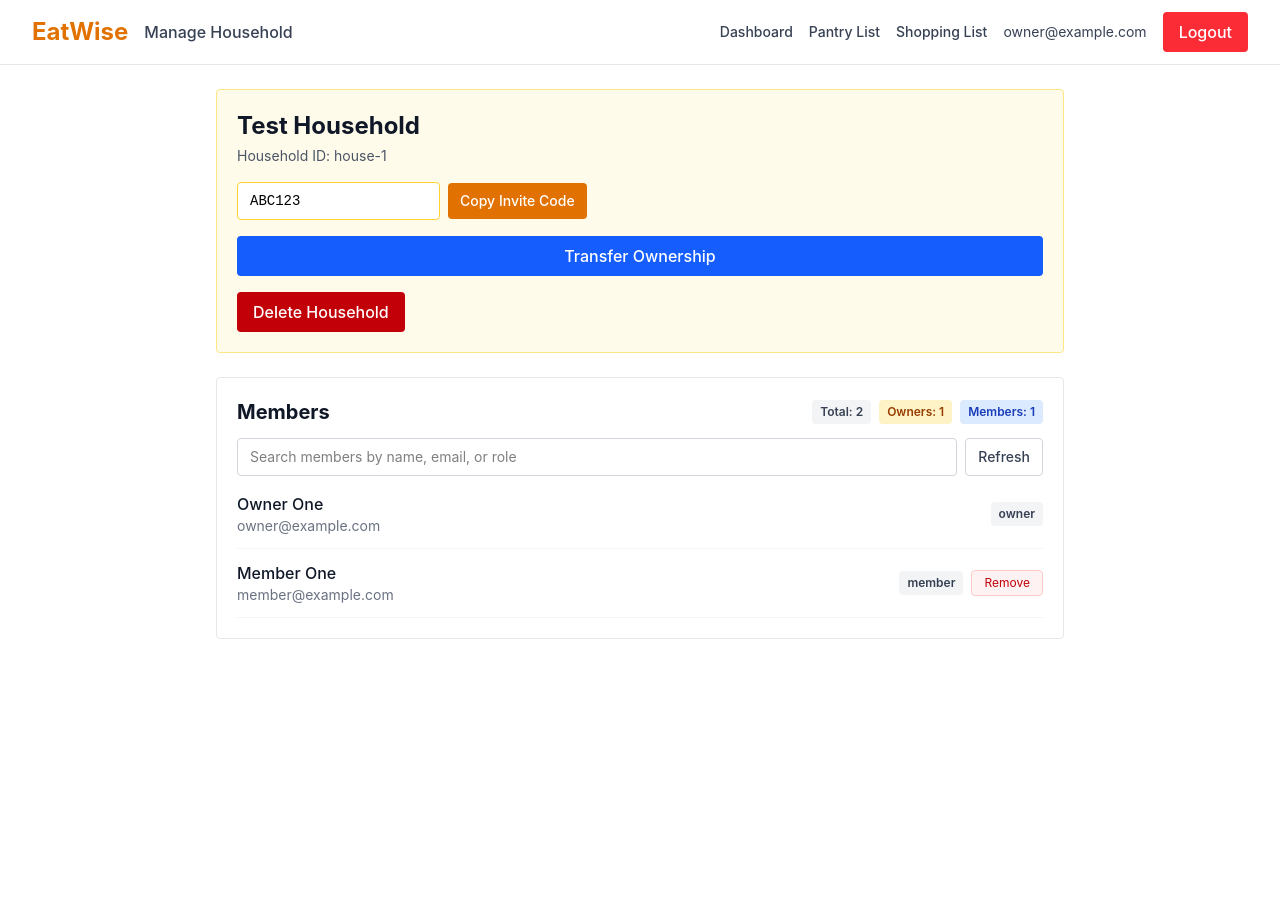
Test: ManageHouseholdPage › shows transfer error and keeps modal open when API fails
Click the button "Transfer Ownership" at x=640, y=256, box [237,236,1043,276]
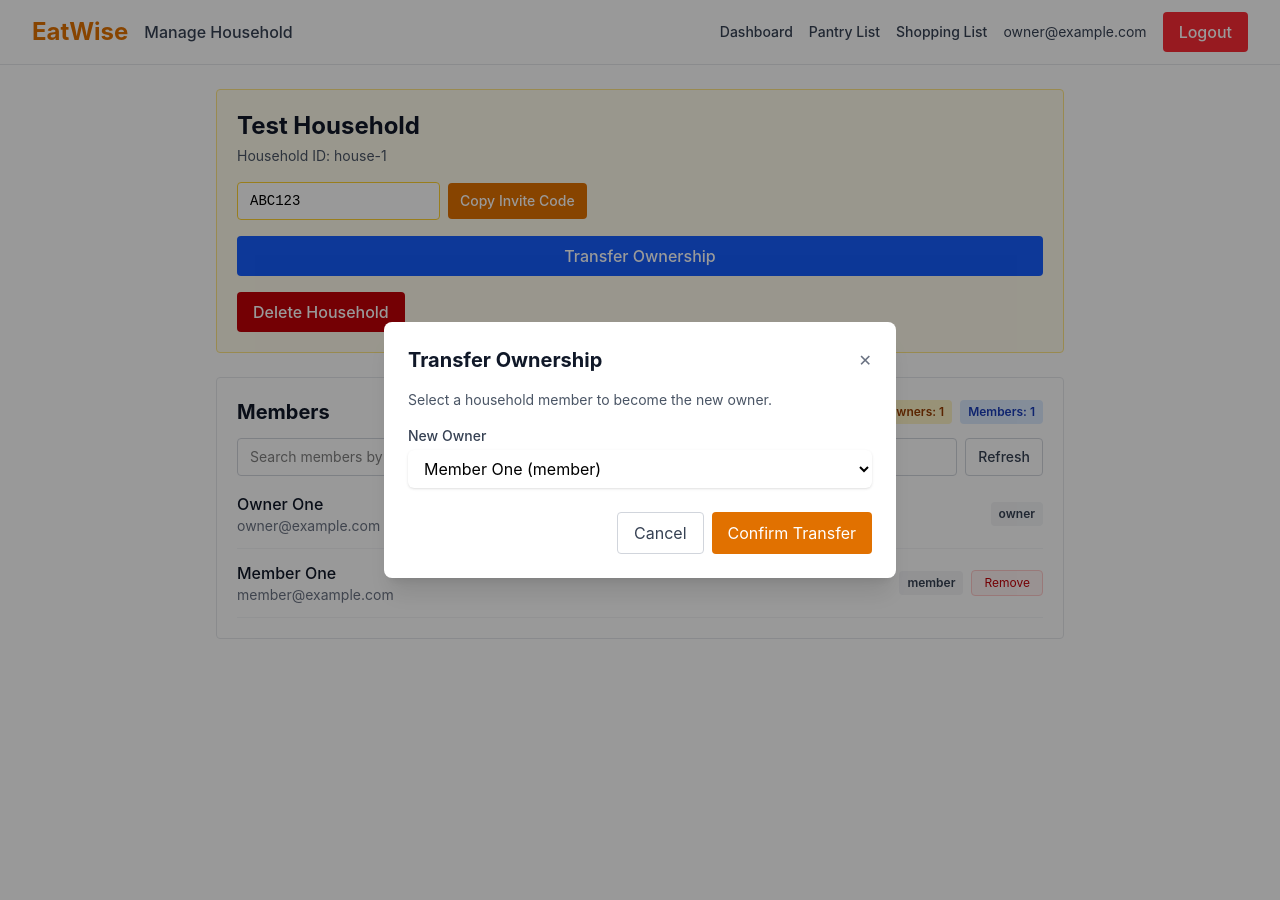
Select "Member One (member)" in the dropdown labelled "New Owner" at x=640, y=469, box [408,450,872,488]
Click the button "Confirm Transfer" at x=792, y=533, box [712,512,872,554]
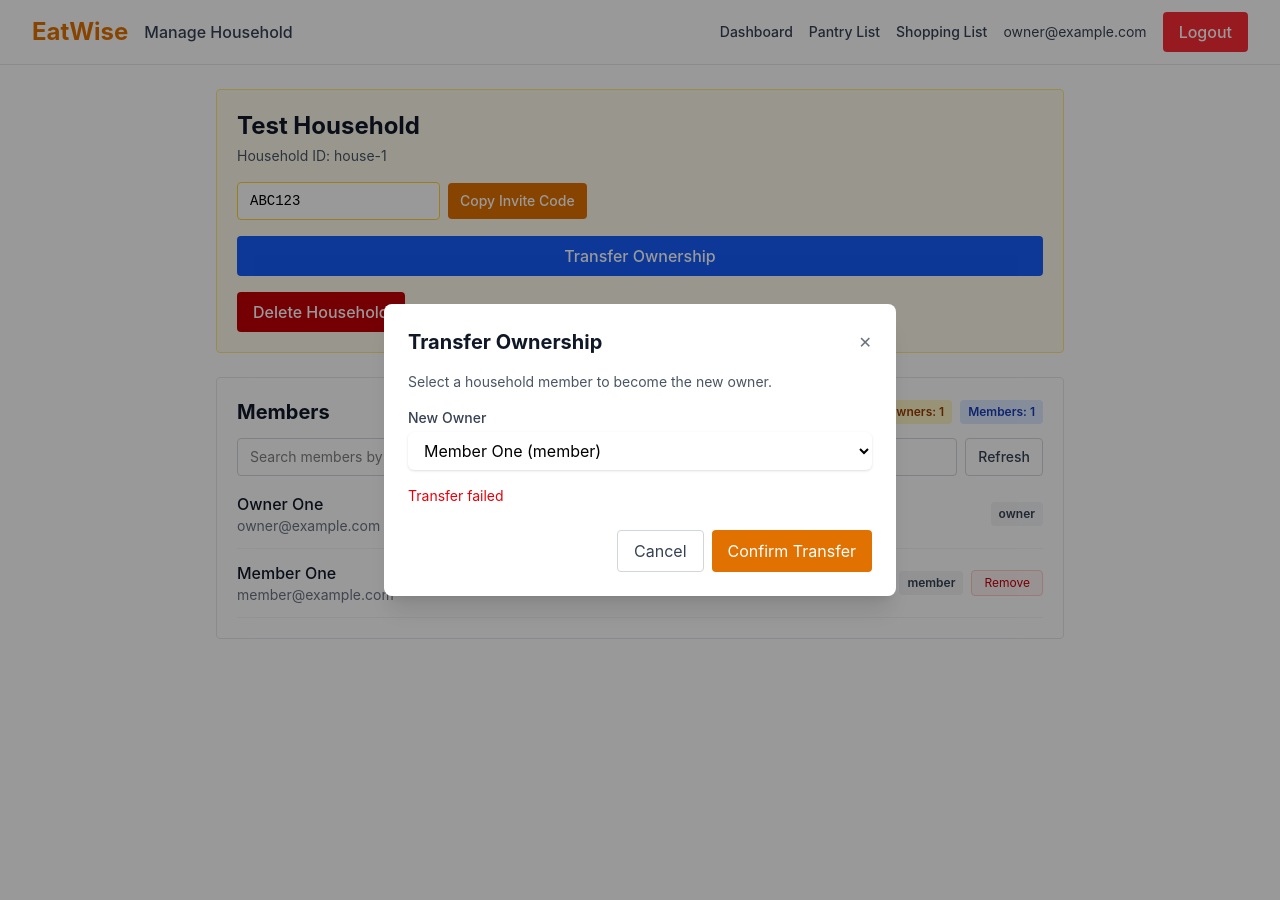
Expected: the button "Confirm Transfer" is shown, [712,530,872,572]
Expected: the text "Transfer failed" is shown, [408,487,504,504]
